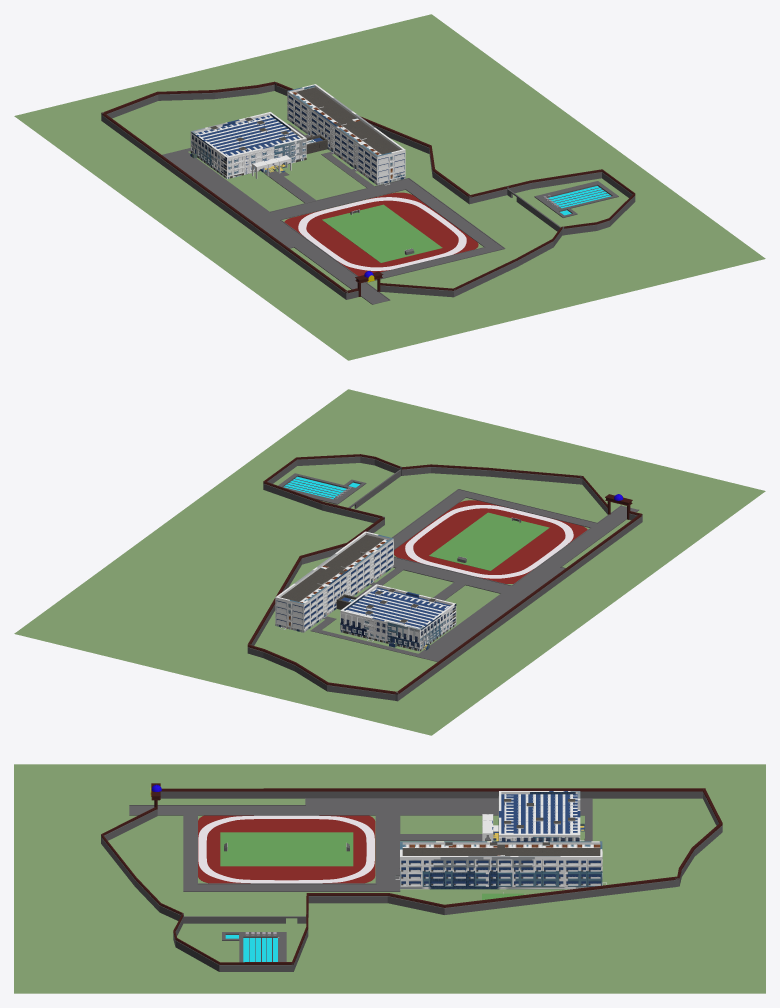
The model's file is Sekolah Baru - ManuallyColored 2.fbx.
The picture shows the model from 3 angles, top to bottom: view 1: azimuth 30°, elevation 25°; view 2: azimuth 150°, elevation 25°; view 3: azimuth 270°, elevation 25°; orthographic projection. The views are drawn at different scales.
Visible parts, largest first — view 1: Tanah, Jalur siswa, Tembok, Object_4, Object_7, Lap. Bola, Lap. Bola.009, Garis 1, Track lari, Garis 2, Garis 3, Pinggiran kolam (+1 smaller); view 2: Tanah, Jalur siswa, Tembok, Object_4, Object_7, Lap. Bola, Lap. Bola.009, Garis 1, Track lari, Garis 2, Garis 3, Air kolam (+1 smaller); view 3: Tanah, Jalur siswa, Object_4, Tembok, Lap. Bola, Lap. Bola.009, Object_7, Garis 1, Track lari, Garis 3, Garis 2, Air kolam (+4 smaller).
Part boxes in pixels (bbox=[...]): Tanah: bbox=[14, 14, 765, 360]; Jalur siswa: bbox=[162, 149, 505, 304]; Tembok: bbox=[101, 83, 635, 299]; Object_4: bbox=[287, 84, 405, 185]; Object_7: bbox=[190, 112, 306, 178]; Lap. Bola: bbox=[284, 192, 478, 276]; Lap. Bola.009: bbox=[322, 204, 442, 262]; Garis 1: bbox=[101, 81, 635, 292]; Track lari: bbox=[298, 197, 466, 270]; Garis 2: bbox=[101, 83, 635, 292]; Garis 3: bbox=[101, 84, 635, 293]; Pinggiran kolam: bbox=[534, 181, 618, 217]; Tanah: bbox=[14, 389, 765, 735]; Jalur siswa: bbox=[392, 489, 638, 661]; Tembok: bbox=[247, 456, 642, 701]; Object_4: bbox=[275, 531, 393, 632]; Object_7: bbox=[340, 584, 456, 651]; Lap. Bola: bbox=[394, 500, 587, 583]; Lap. Bola.009: bbox=[429, 512, 549, 570]; Garis 1: bbox=[247, 454, 642, 693]; Track lari: bbox=[405, 505, 573, 578]; Garis 2: bbox=[248, 455, 641, 693]; Garis 3: bbox=[248, 456, 641, 694]; Air kolam: bbox=[284, 476, 359, 499]; Tanah: bbox=[14, 764, 765, 993]; Jalur siswa: bbox=[129, 798, 592, 891]; Object_4: bbox=[400, 841, 602, 889]; Tembok: bbox=[101, 791, 722, 971]; Lap. Bola: bbox=[198, 815, 375, 883]; Lap. Bola.009: bbox=[220, 832, 353, 866]; Object_7: bbox=[498, 791, 580, 841]; Garis 1: bbox=[101, 788, 722, 963]; Track lari: bbox=[198, 815, 374, 883]; Garis 3: bbox=[101, 790, 722, 964]; Garis 2: bbox=[102, 790, 722, 963]; Air kolam: bbox=[225, 935, 277, 962].
Size of the model in its own units: 20225 by 1696 by 28041.
Materials: 54 (6 with a texture image).
